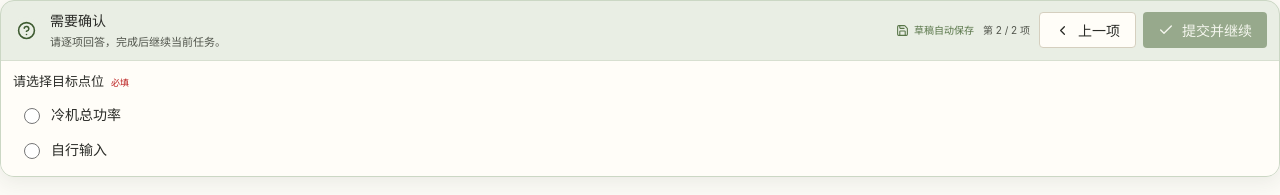
Test: QuestionGroup › does not claim a failed draft write was saved
Click the radio button labelled "冷机总功率".
click(32, 116)  # box [24,108,40,124]
Wait 500 ms
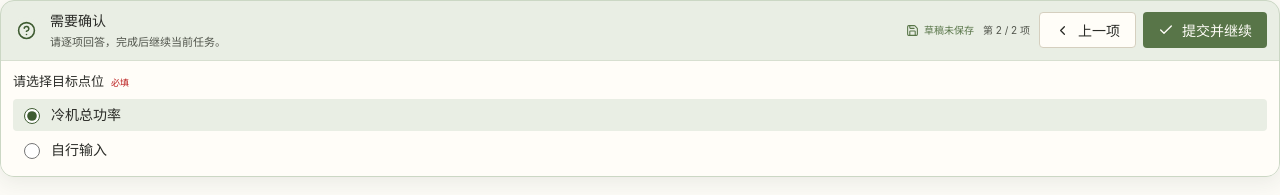
Expected: the text "草稿未保存" is shown, [906,23,974,38]
